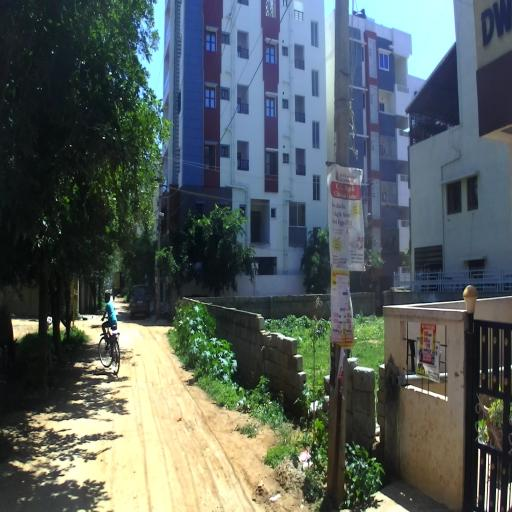street_light_0: (158, 212, 164, 232)
